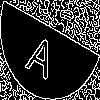A: (25, 25, 61, 80)
